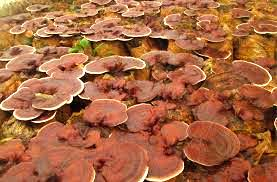Ganoderma - Fruit Body: (2, 80, 82, 125), (4, 148, 95, 182), (186, 119, 241, 165), (98, 138, 149, 182), (166, 14, 231, 41), (85, 48, 145, 76), (82, 99, 128, 129), (232, 57, 276, 87), (86, 18, 150, 38), (233, 8, 277, 37), (38, 51, 83, 79), (84, 78, 130, 100), (159, 63, 209, 83), (152, 155, 184, 182), (246, 157, 277, 182), (35, 20, 75, 39), (111, 0, 160, 15), (131, 103, 156, 131), (195, 100, 226, 117), (162, 120, 183, 143), (79, 2, 109, 15), (28, 2, 48, 11), (9, 24, 27, 34)
